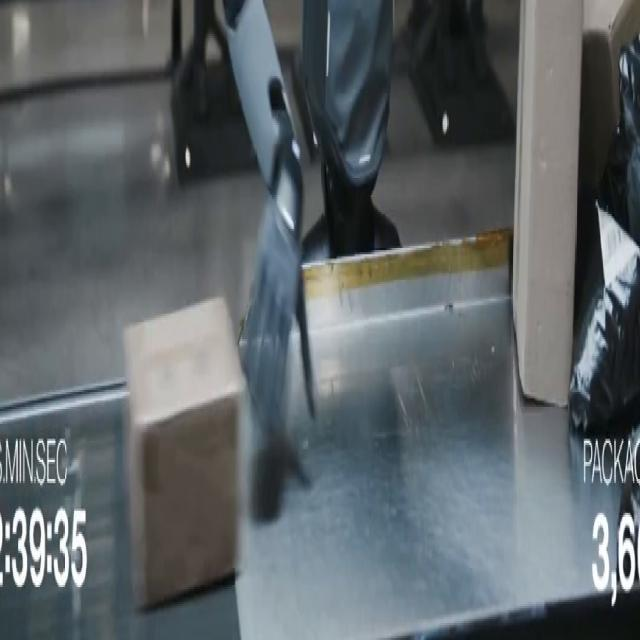package: (125, 299, 243, 608), (513, 0, 583, 406), (570, 37, 639, 434), (569, 206, 639, 434), (580, 0, 639, 186), (598, 37, 639, 243)
